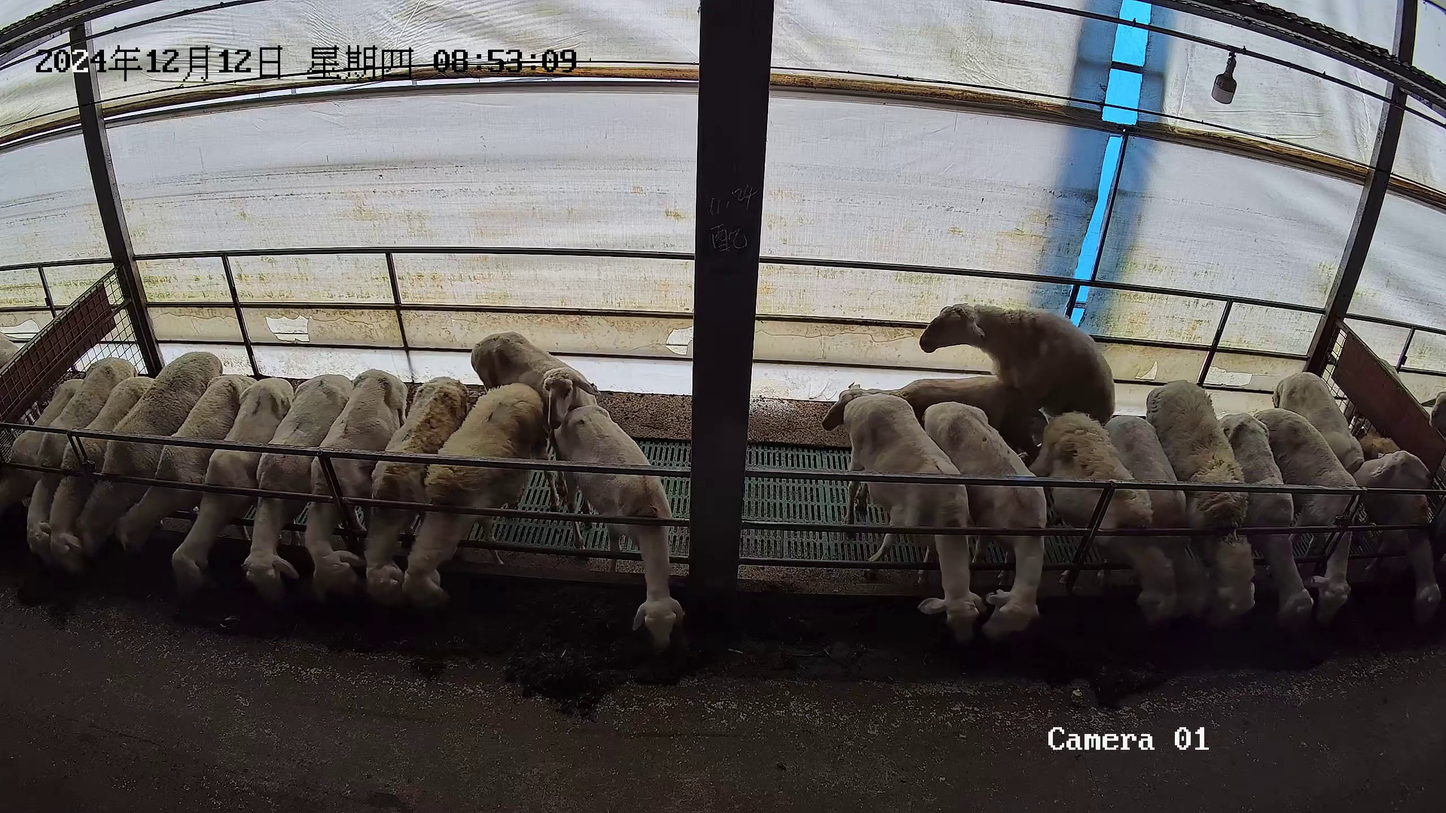Smounting: (816, 301, 1116, 470)
mounted: (820, 373, 1051, 466)
